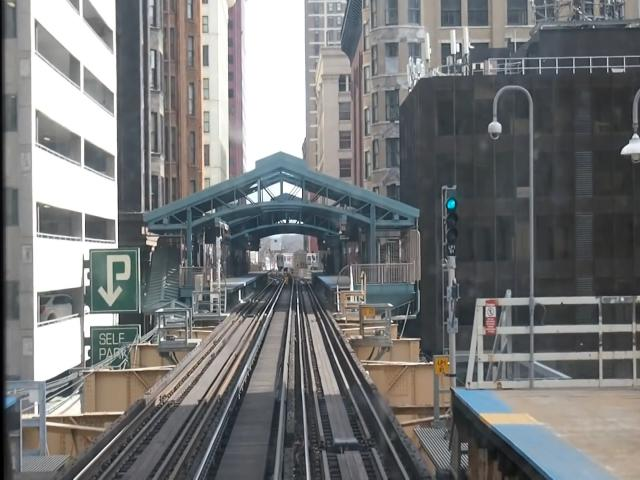signal light: (443, 186, 462, 254)
